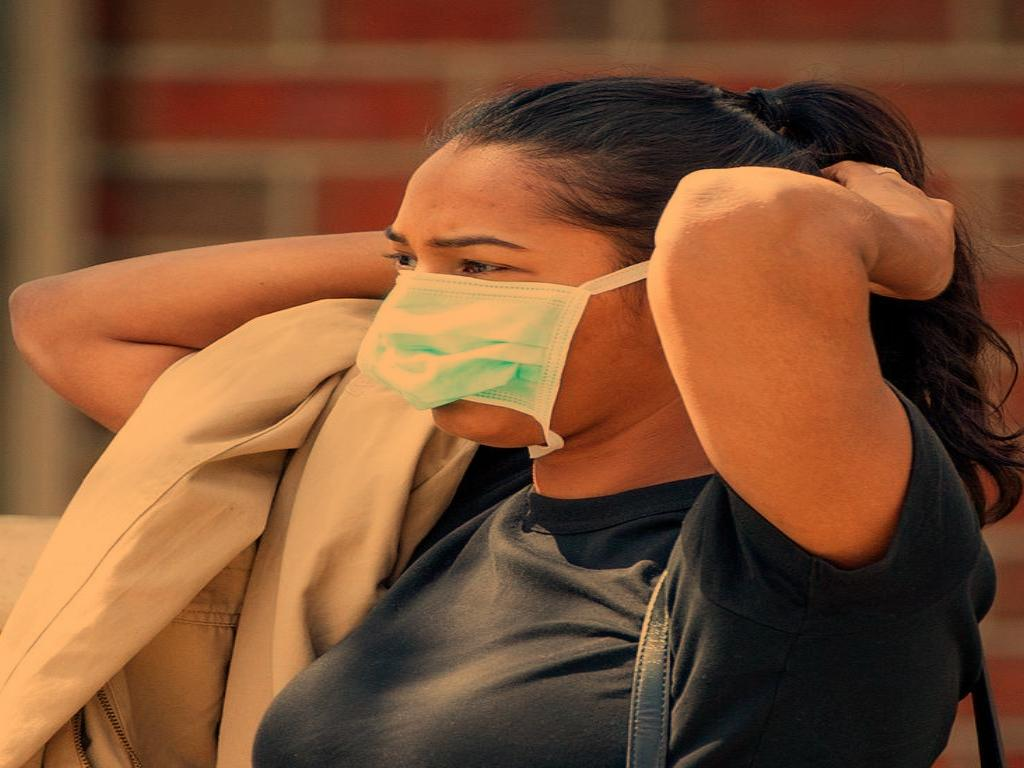mask_weared_incorrect: (349, 75, 818, 465)
